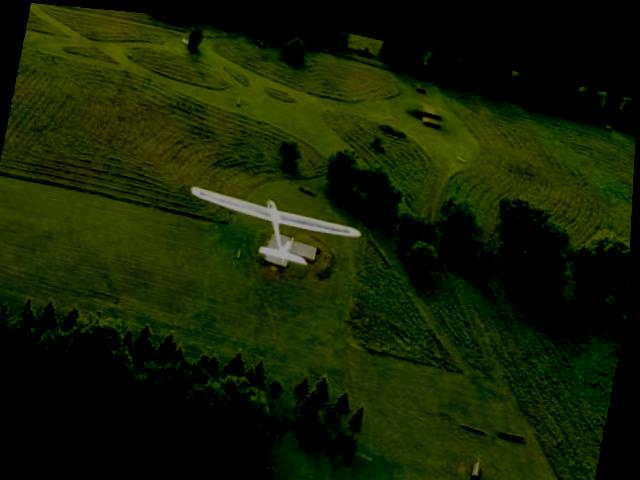uav: (176, 164, 374, 285)
